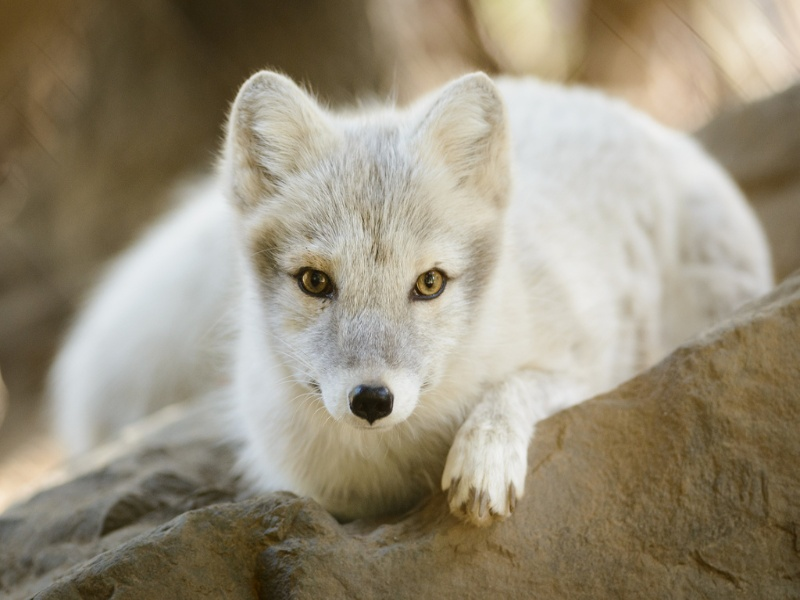fox: (37, 68, 768, 527)
